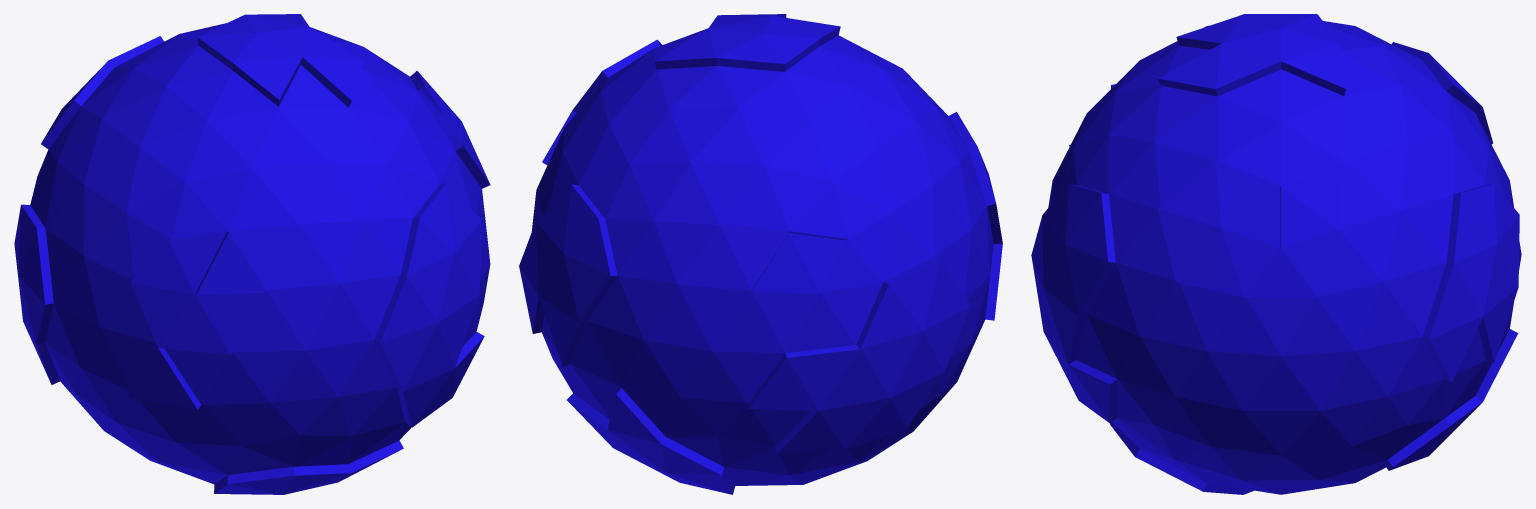
The model's file is BluePlanet.glb.
The picture shows the model from 3 angles, left to right: view 1: azimuth 30°, elevation 25°; view 2: azimuth 150°, elevation 25°; view 3: azimuth 270°, elevation 25°; orthographic projection. The views are drawn at different scales.
Parts seen in each view (by area): view 1: BluePlanet; view 2: BluePlanet; view 3: BluePlanet.
Boxes of the visible parts, x1,y1,x2,y2 form: BluePlanet: (14, 14, 490, 494); BluePlanet: (519, 14, 1002, 494); BluePlanet: (1031, 14, 1521, 494).
Size of the model in its own units: 9.18 by 9.36 by 9.18.
